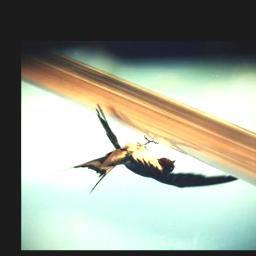Swallow: (43, 104, 242, 196)
